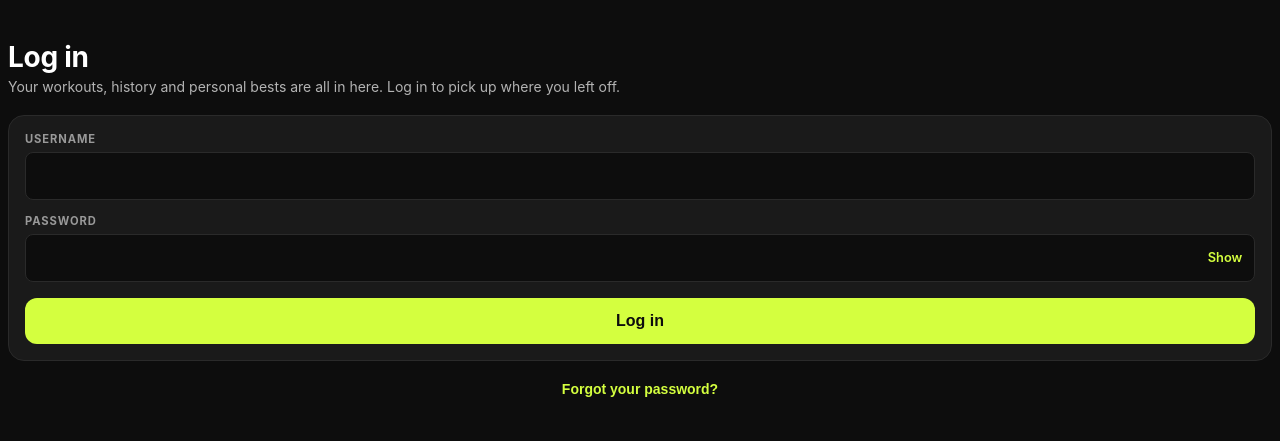
Test case: Login › shows the API's generic message when the password is wrong
Step 1. Type "kapekost" into the field labelled "Username" → (640, 176), box [25,152,1255,200]
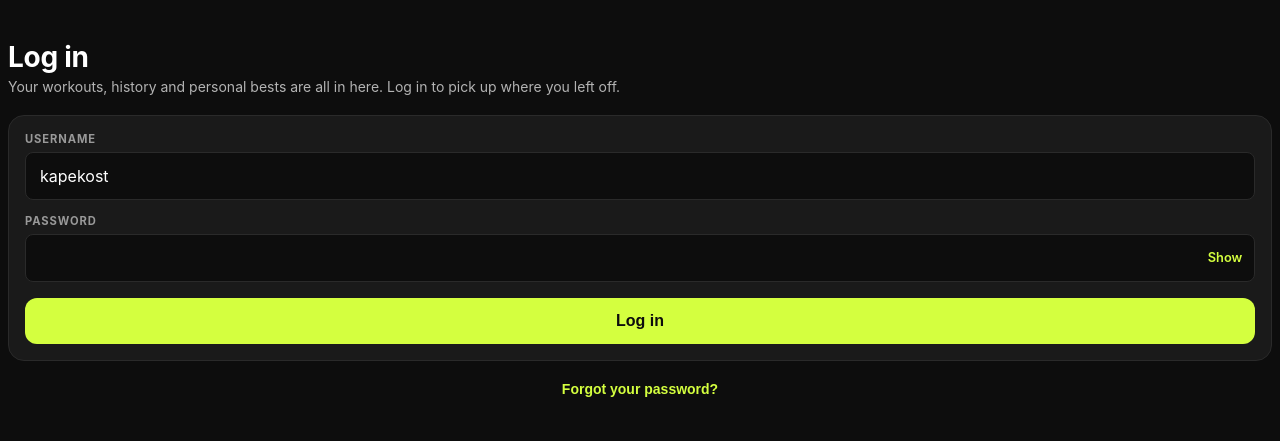
Step 2. Type "wrong" into the password field labelled "Password" → (640, 258), box [25,234,1255,282]
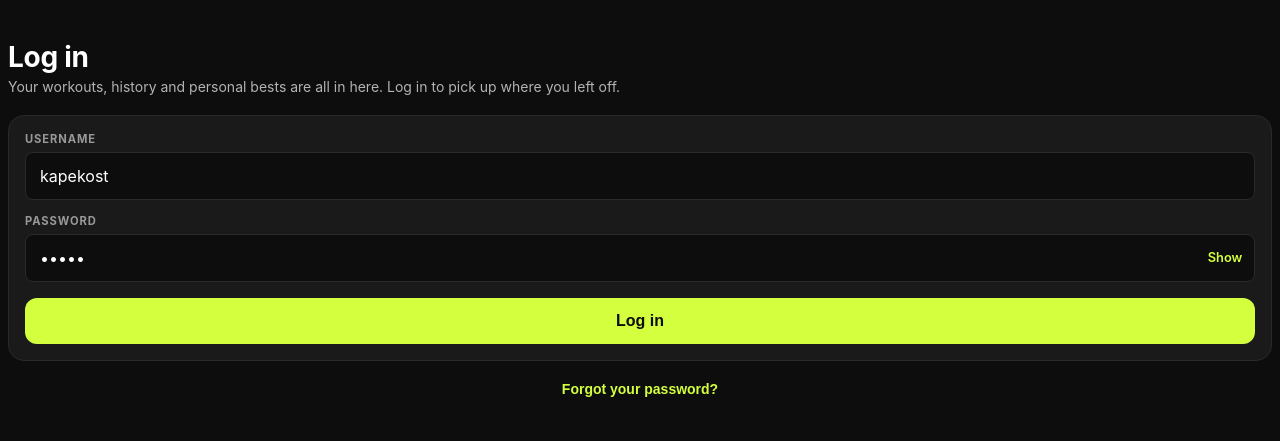
Step 3. Click the button "Log in" → (640, 320), box [25,298,1255,344]
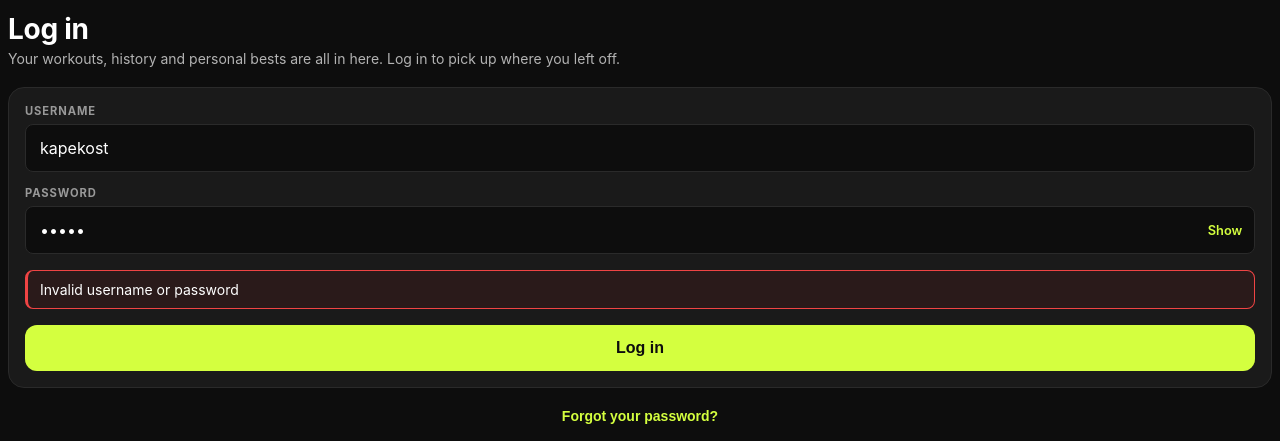
Expected: the message reads "Invalid username or password", [40,281,239,298]
